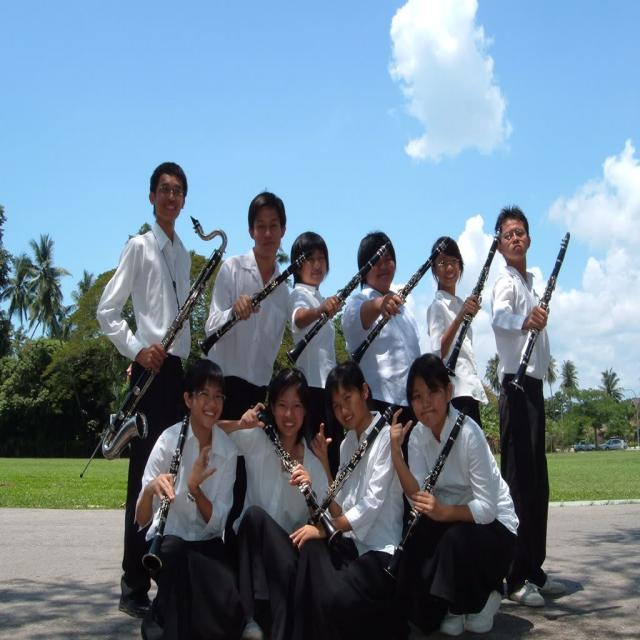clarinet: (381, 398, 473, 586), (250, 395, 346, 553), (346, 233, 452, 369), (286, 239, 395, 367), (310, 392, 407, 530), (198, 248, 311, 360), (507, 227, 572, 396), (140, 402, 193, 578), (443, 224, 503, 378)
